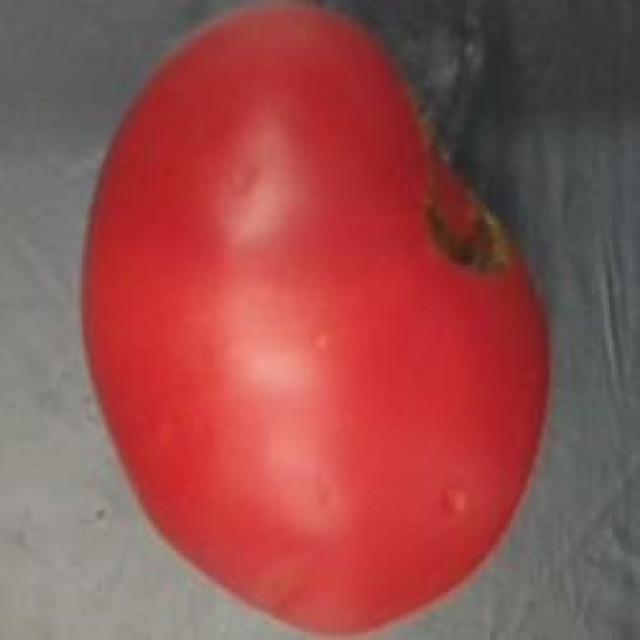overripe tomato: (80, 4, 542, 631)
